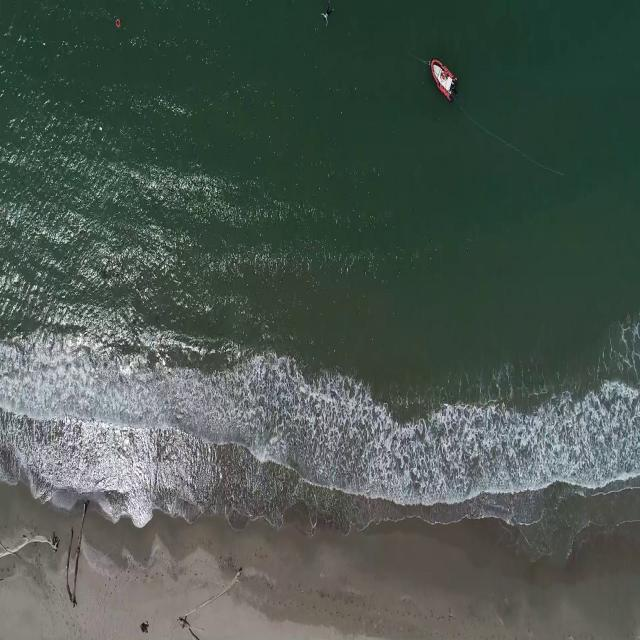boat: (430, 59, 458, 105)
life_buoy: (114, 18, 123, 30)
person: (321, 6, 334, 30)
wood: (176, 570, 243, 620), (67, 501, 88, 613), (0, 533, 63, 557), (177, 615, 226, 640)
